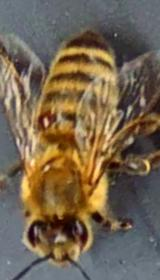varroa_mite: (28, 100, 63, 136)
